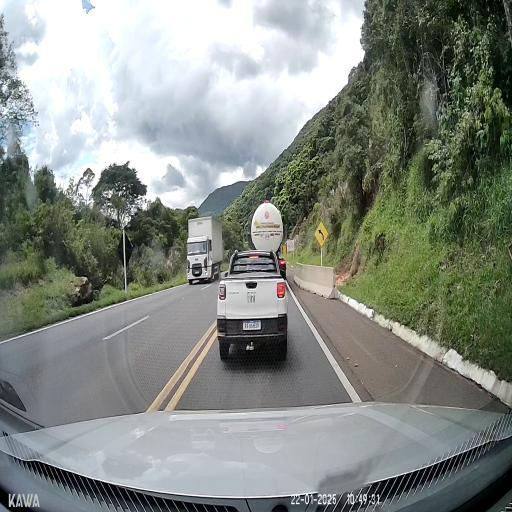A-2a: (314, 222, 328, 247)
